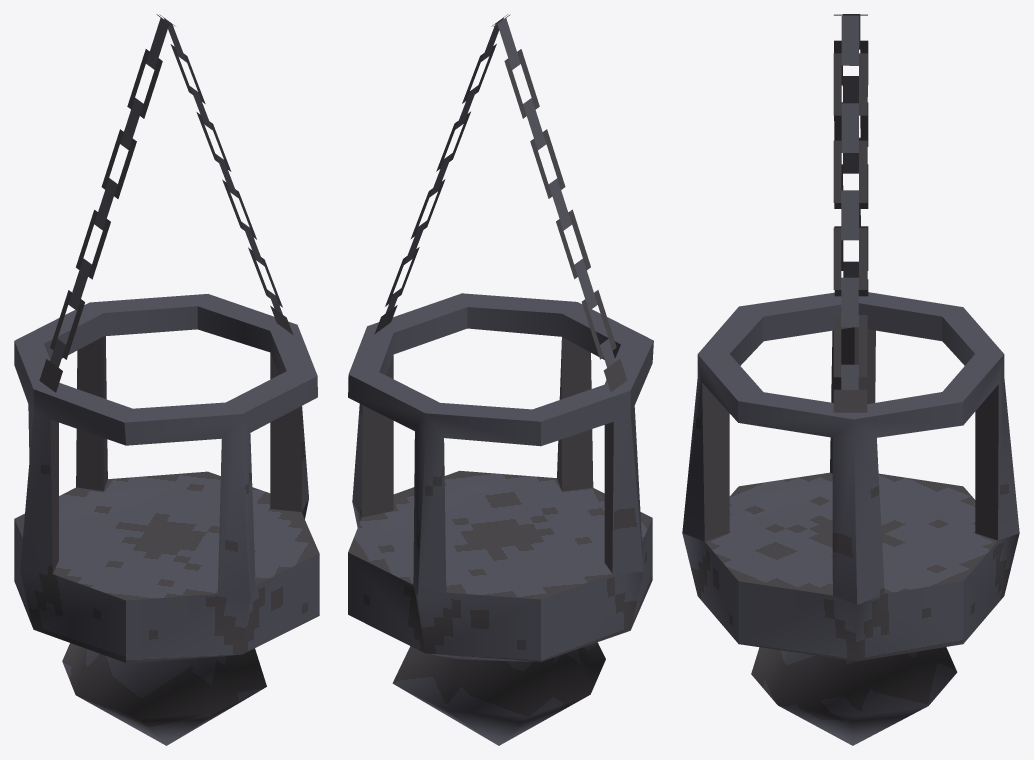
File: model_lantern_0.fbx
3 views of the same model, side by side, from view 1: azimuth 30°, elevation 25°; view 2: azimuth 150°, elevation 25°; view 3: azimuth 270°, elevation 25° (orthographic).
Visible parts, largest first — view 1: lantern, chain_0, chain_3, chain_2; view 2: lantern, chain_0, chain_3, chain_2; view 3: lantern, chain_1, chain_0, chain_2, chain_3.
Part boxes in pixels (x1,y1,x2,y2): lantern: (14,294,319,745); chain_0: (39,17,169,392); chain_3: (160,15,293,334); chain_2: (39,14,173,390); lantern: (348,293,653,745); chain_0: (497,17,626,391); chain_3: (374,14,507,334); chain_2: (493,14,624,391); lantern: (682,292,1019,745); chain_1: (833,15,867,412); chain_0: (834,14,868,296); chain_2: (834,14,868,294); chain_3: (834,15,867,405).
Size of the model in its own units: 0.5209 by 1.25 by 0.5209.
